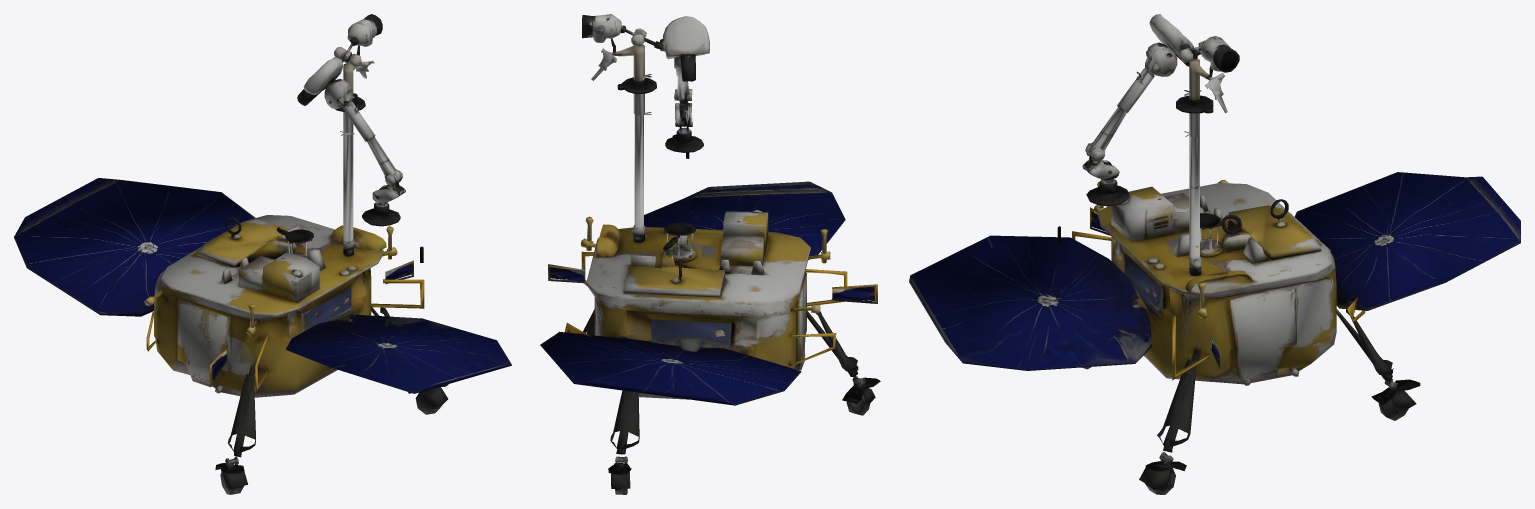
Rendered from phoenix.glb.
The picture shows the model from 3 angles, left to right: view 1: azimuth 30°, elevation 25°; view 2: azimuth 150°, elevation 25°; view 3: azimuth 270°, elevation 25°; orthographic projection. The views are drawn at different scales.
Parts seen in each view (by area): view 1: tripo_node_557e280b-3c9e-4214-90ab-a735b0a47041; view 2: tripo_node_557e280b-3c9e-4214-90ab-a735b0a47041; view 3: tripo_node_557e280b-3c9e-4214-90ab-a735b0a47041.
Boxes of the visible parts, x1,y1,x2,y2 form: tripo_node_557e280b-3c9e-4214-90ab-a735b0a47041: [14, 14, 511, 494]; tripo_node_557e280b-3c9e-4214-90ab-a735b0a47041: [540, 14, 880, 494]; tripo_node_557e280b-3c9e-4214-90ab-a735b0a47041: [909, 14, 1520, 494].
Size of the model in its own units: 0.666 by 0.7755 by 0.998.
Materials: 1 (1 with a texture image).
